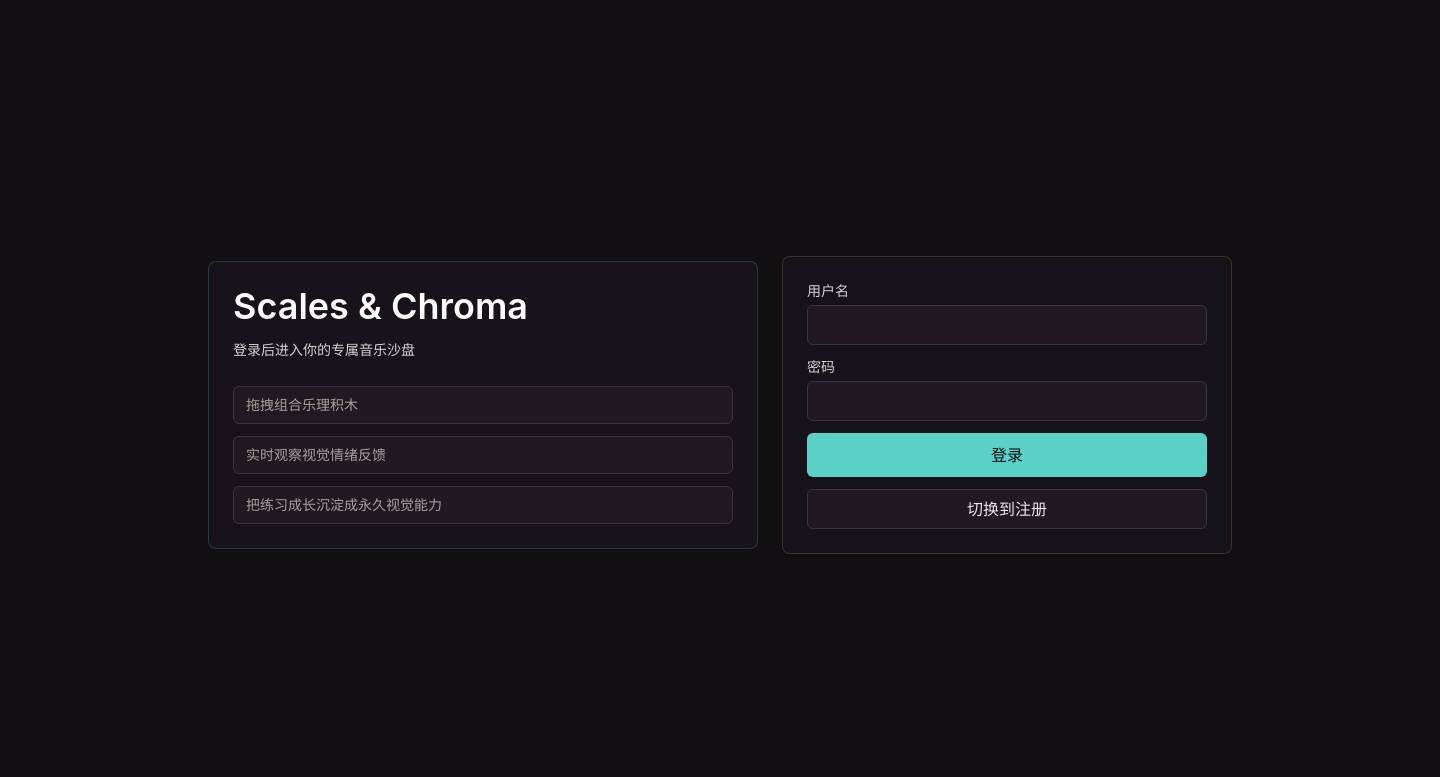
Test case: App runtime config › submits login credentials and enters the sandbox after success
Type "player-one" into the field labelled "用户名" at (1007, 325), box [807,305,1207,345]
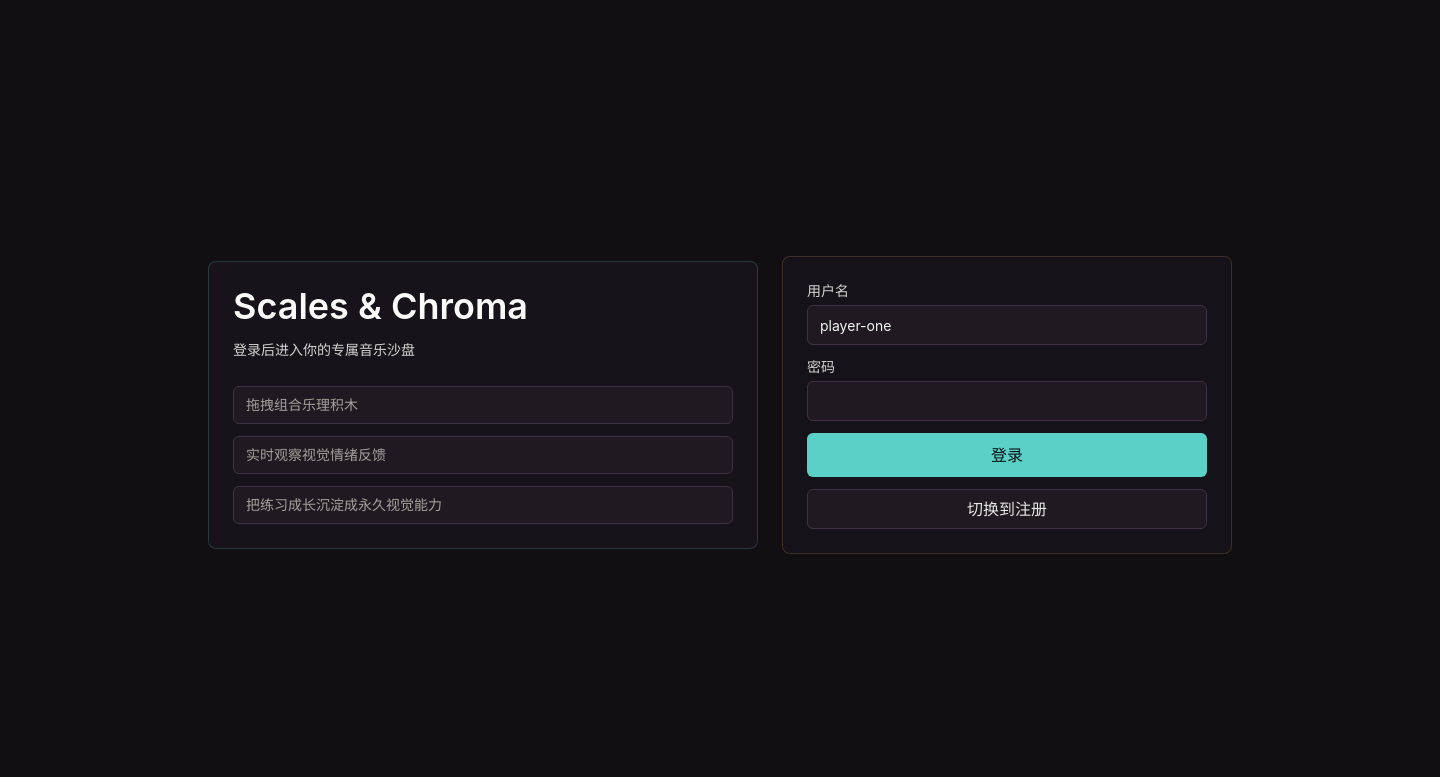
Type "plain-secret" into the password field labelled "密码" at (1007, 401), box [807,381,1207,421]
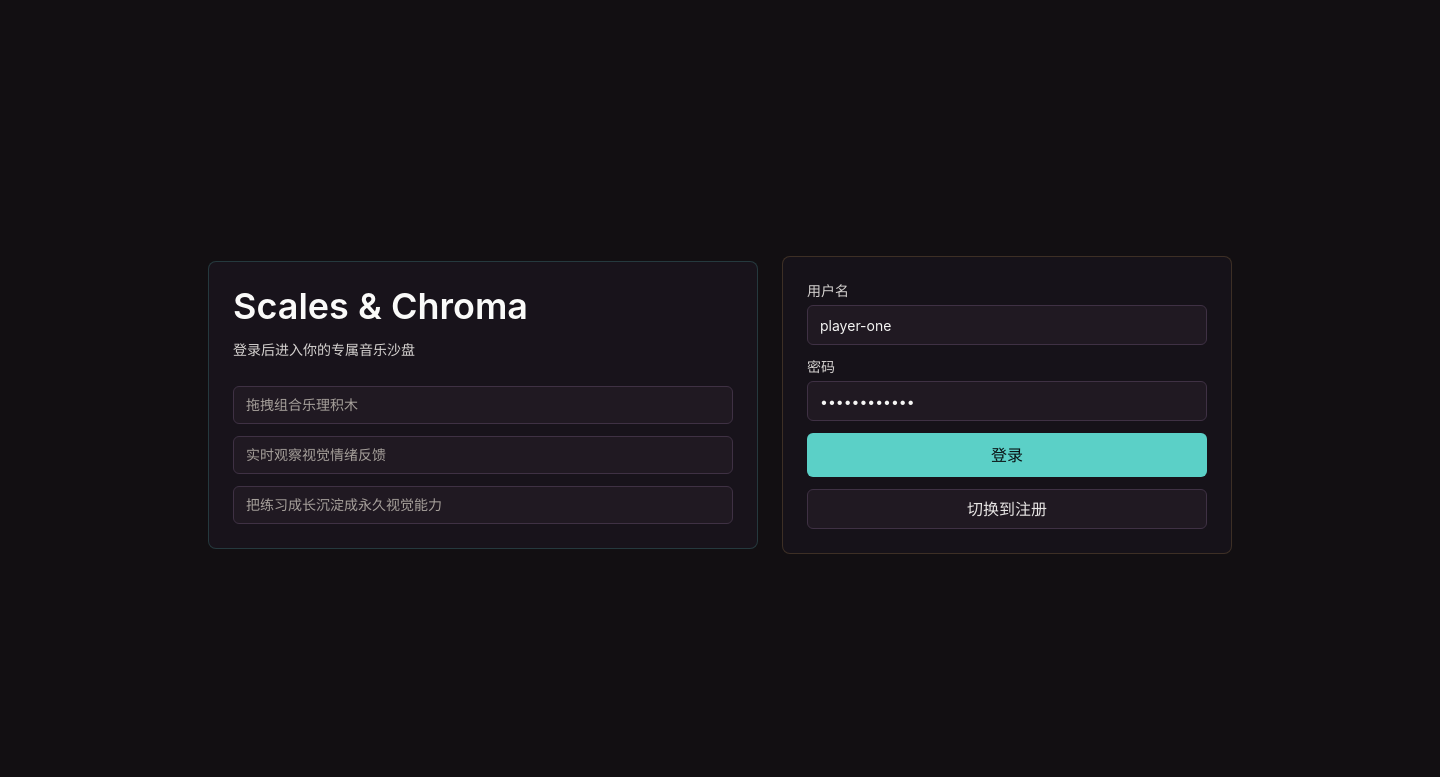
Click the button "登录" at (1007, 455), box [807,433,1207,477]
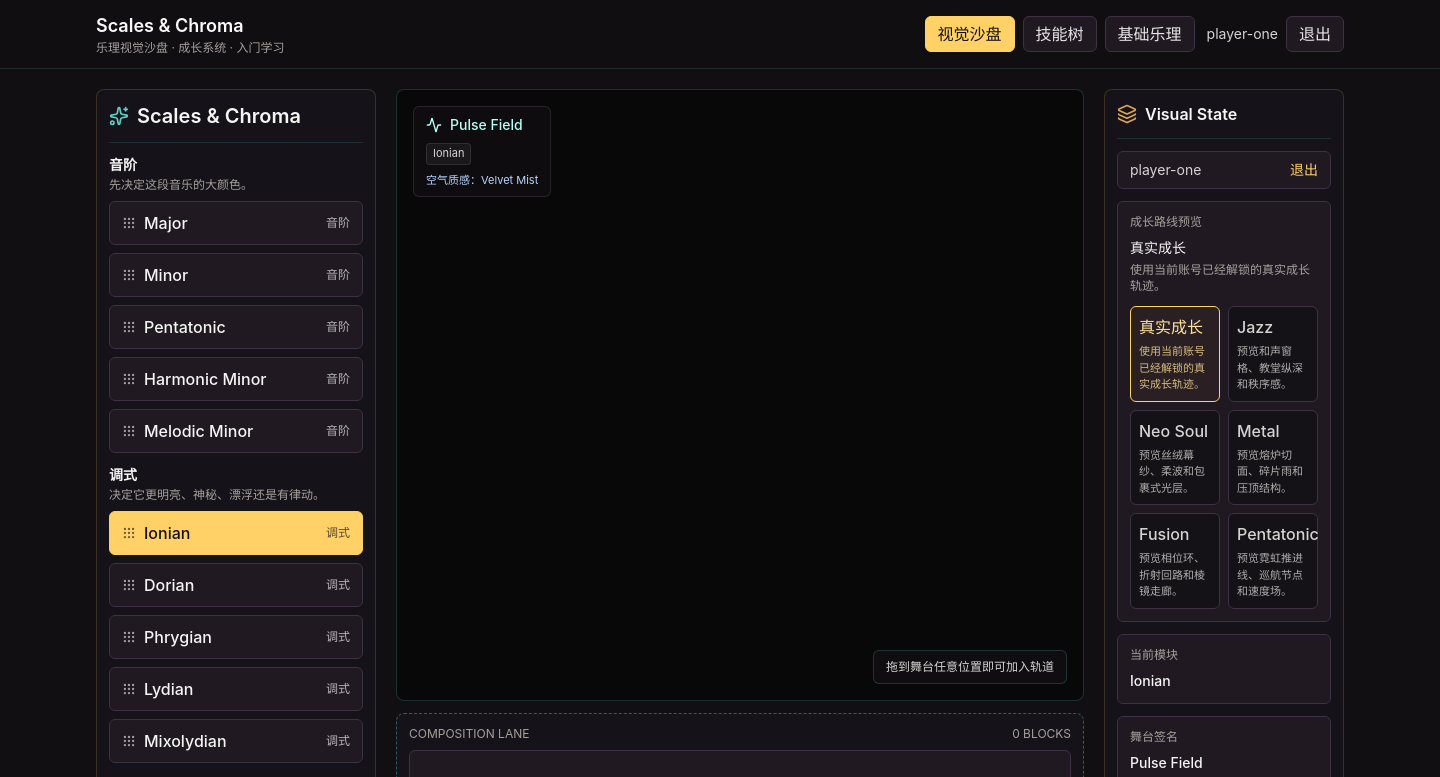
Expected: the text "player-one" in the row of "乐理视觉沙盘 · 成长系统 · 入门学习" is shown, [1207,25,1278,42]
